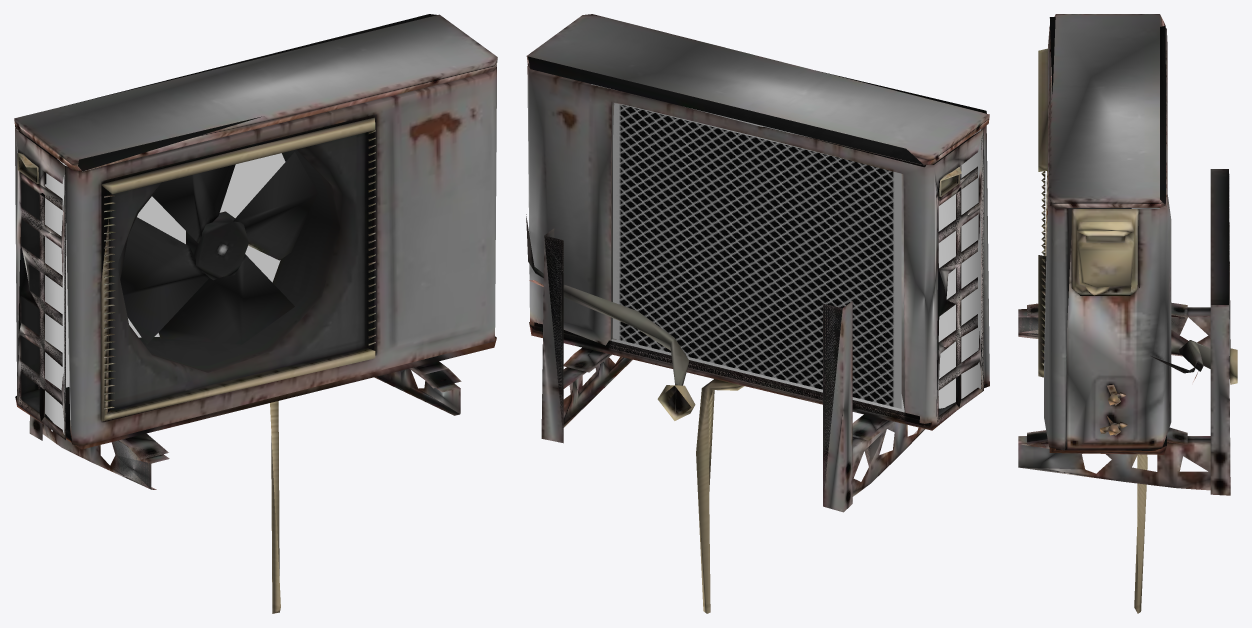
File: aircon.glb
3 renders of one model, left to right at view 1: azimuth 30°, elevation 25°; view 2: azimuth 150°, elevation 25°; view 3: azimuth 270°, elevation 25°, orthographic. The views are drawn at different scales.
Parts seen in each view (by area): view 1: exterior_aircon_unit_rusted; view 2: exterior_aircon_unit_rusted; view 3: exterior_aircon_unit_rusted.
Boxes of the visible parts, x1,y1,x2,y2 form: exterior_aircon_unit_rusted: [14, 14, 497, 613]; exterior_aircon_unit_rusted: [526, 14, 989, 613]; exterior_aircon_unit_rusted: [1018, 14, 1237, 613].
Bounding box in the file's own units: 0.7954 × 0.9225 × 0.3741.
Materials: 2 (2 with a texture image).
